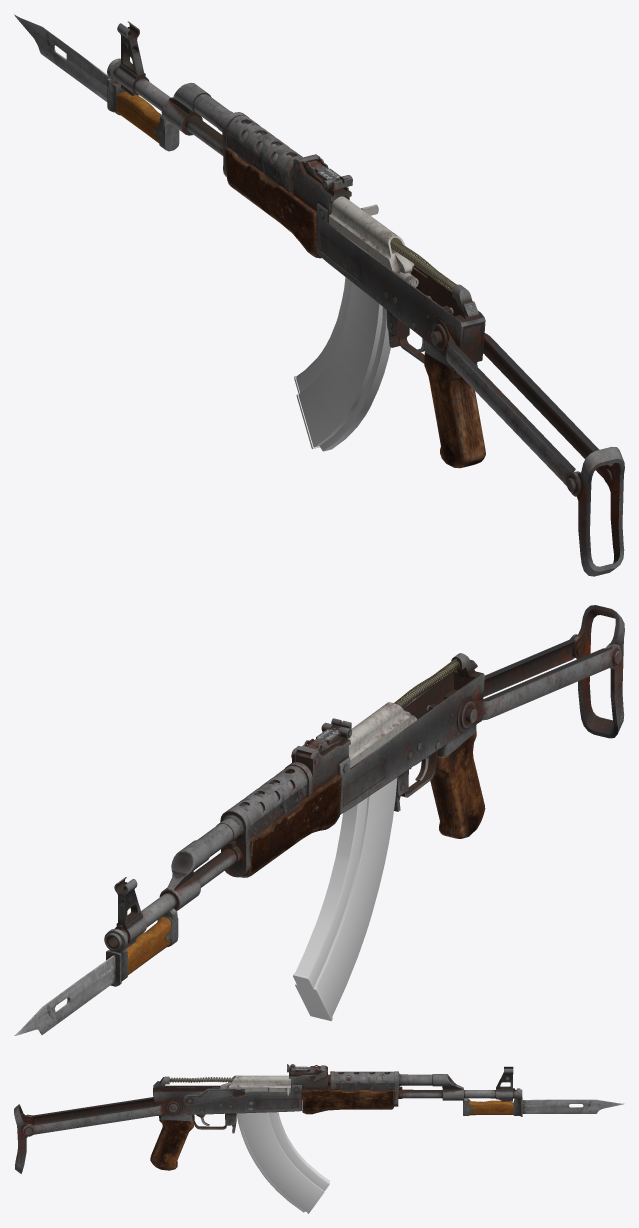
File: AKS.fbx
3 views of the same model, one above another, from view 1: azimuth 30°, elevation 25°; view 2: azimuth 150°, elevation 25°; view 3: azimuth 270°, elevation 25° (orthographic). The views are drawn at different scales.
Parts seen in each view (by area): view 1: blade, blade.001, blade.005, blade.002, blade.006, blade.003; view 2: blade, blade.001, blade.005, blade.002, blade.006, blade.003; view 3: blade, blade.001, blade.005, blade.002, blade.003, blade.006.
Boxes of the visible parts, <box> form: blade: <box>110,21,485,468</box>; blade.001: <box>294,277,390,451</box>; blade.005: <box>431,319,613,496</box>; blade.002: <box>14,14,179,151</box>; blade.006: <box>575,447,624,576</box>; blade.003: <box>329,196,418,287</box>; blade: <box>105,653,485,950</box>; blade.001: <box>293,777,397,1021</box>; blade.005: <box>457,634,621,731</box>; blade.002: <box>14,908,178,1035</box>; blade.006: <box>572,605,624,738</box>; blade.003: <box>348,702,416,767</box>; blade: <box>150,1064,522,1170</box>; blade.001: <box>236,1112,329,1213</box>; blade.005: <box>22,1097,182,1136</box>; blade.002: <box>463,1088,624,1116</box>; blade.003: <box>220,1075,290,1096</box>; blade.006: <box>14,1104,33,1173</box>.
Size of the model in its own units: 69.39 by 310 by 1183.
